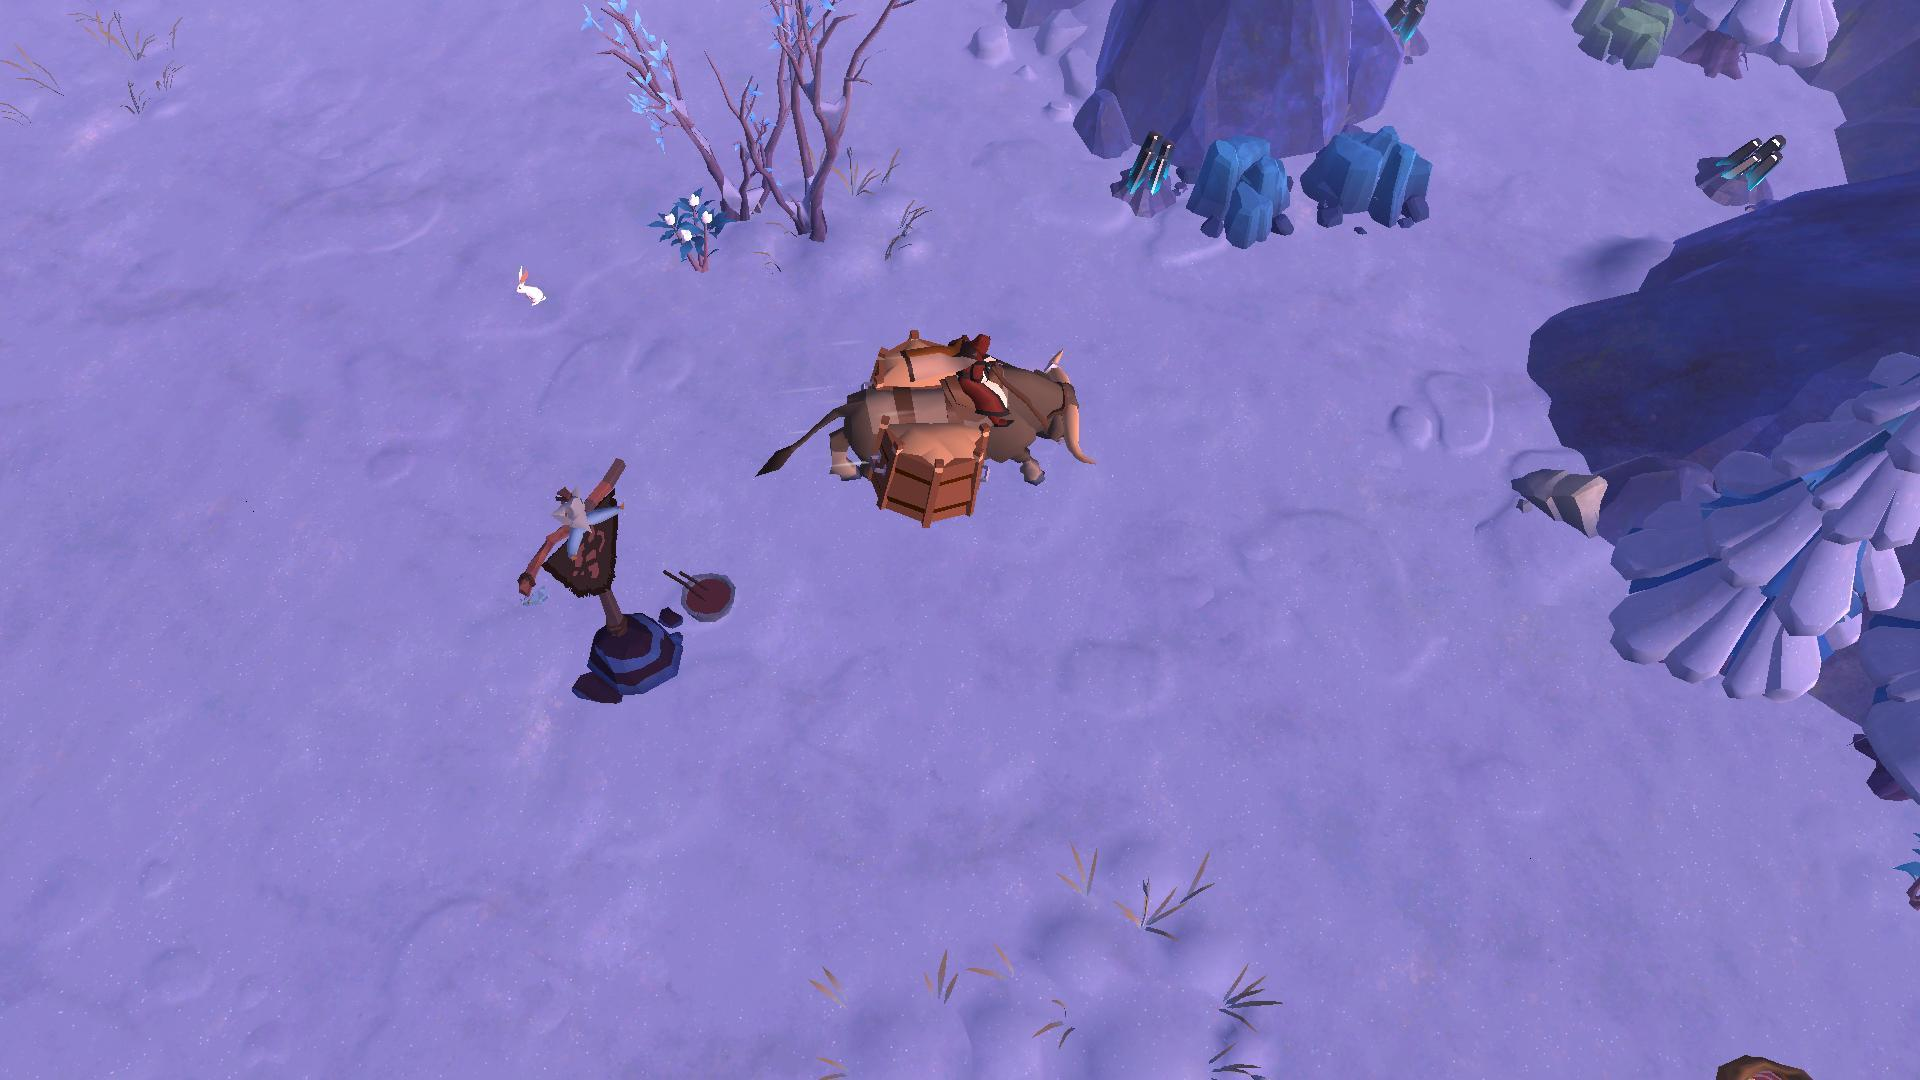fiber_t4: (654, 190, 728, 272)
ore_t4: (1704, 119, 1784, 193), (1120, 120, 1175, 207), (1364, 0, 1444, 47)
rock_t3: (1565, 0, 1684, 79)
rock_t4: (1298, 120, 1443, 233), (1192, 128, 1294, 251)
